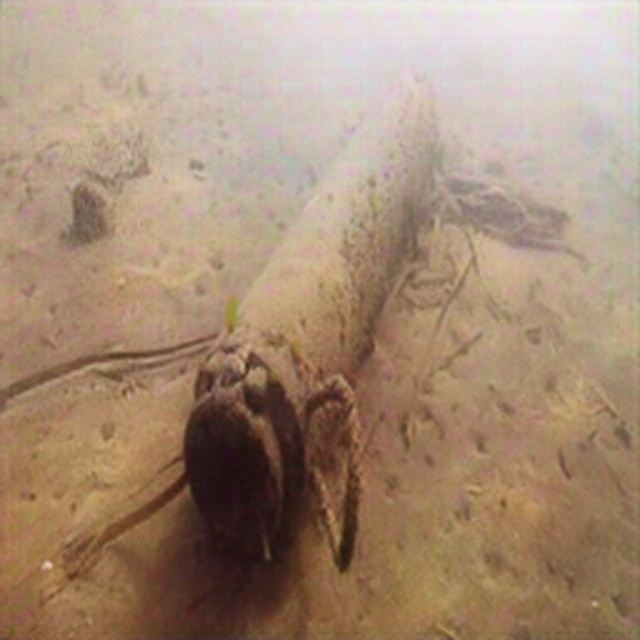mine: (183, 65, 438, 560)
